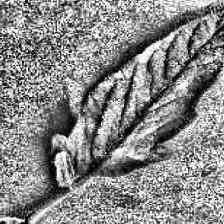leaf mold: (52, 0, 223, 192)
